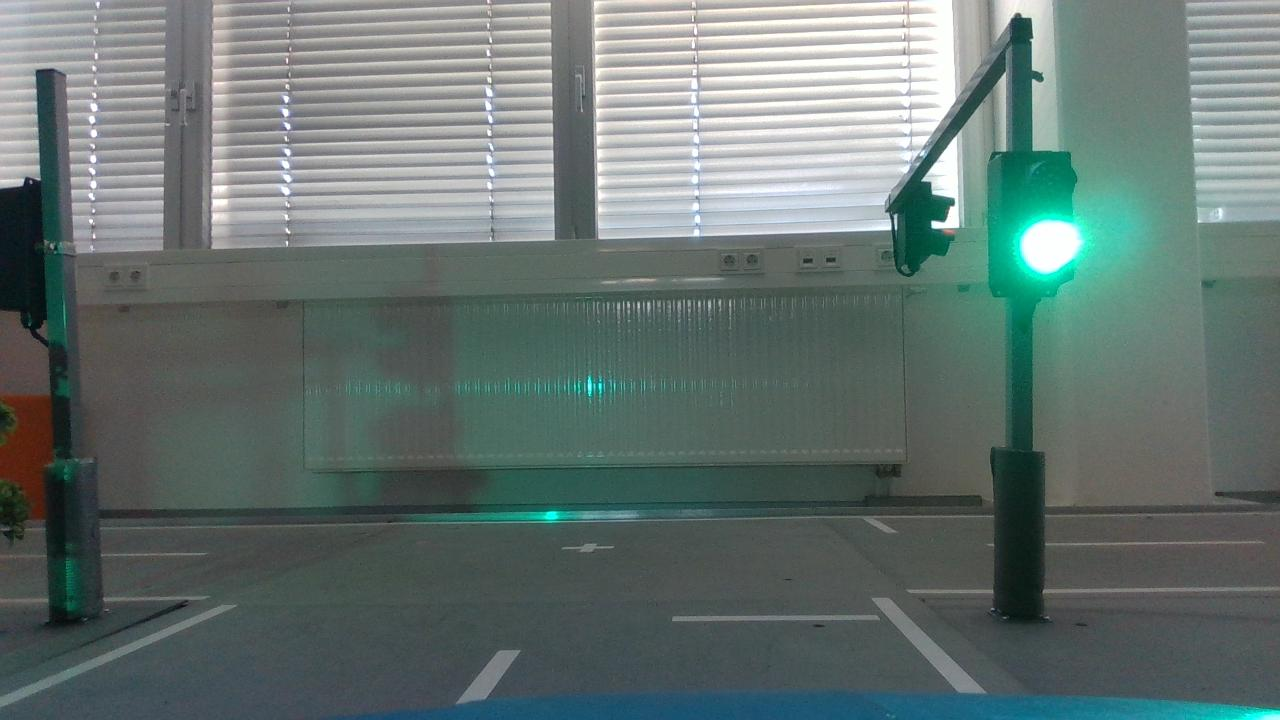traffic_light_green: (975, 139, 1097, 306)
